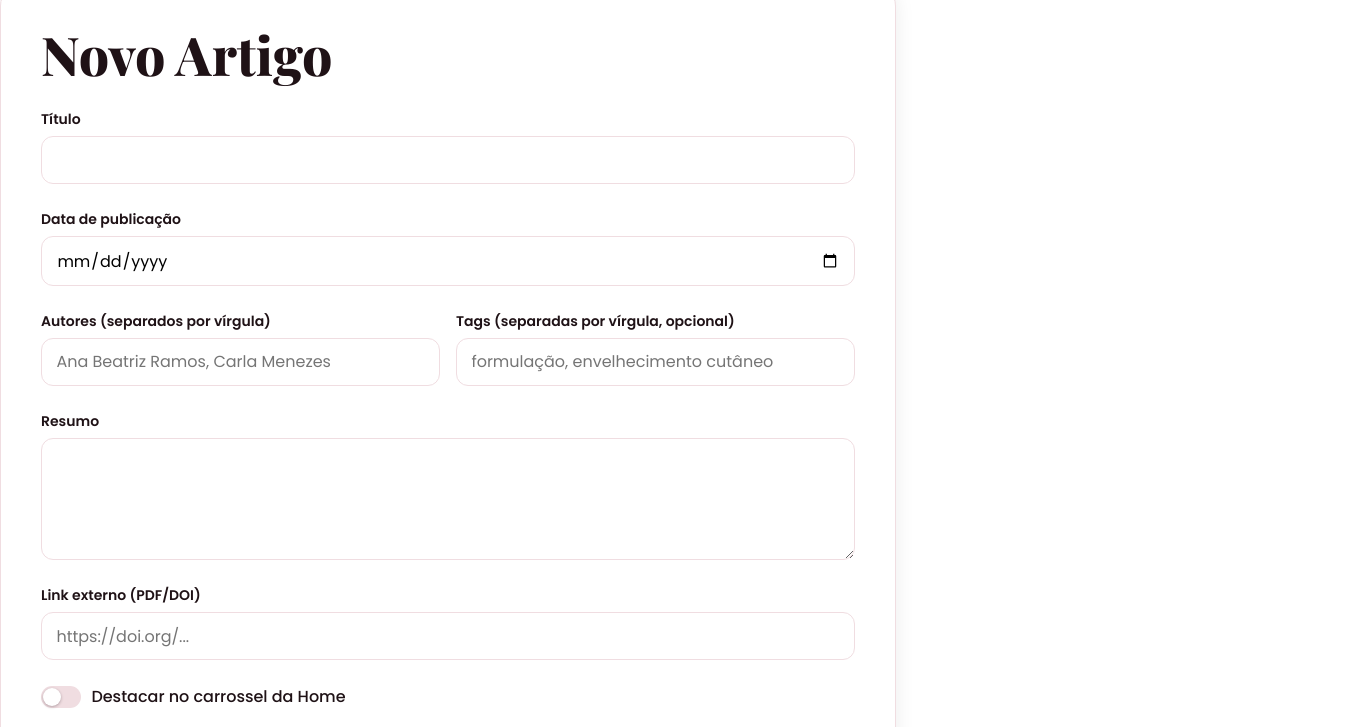
ArticleForm (create) › rejects a malformed external URL
Type "Artigo Teste" into the field labelled "Título" at (448, 160), box [41, 136, 855, 184]
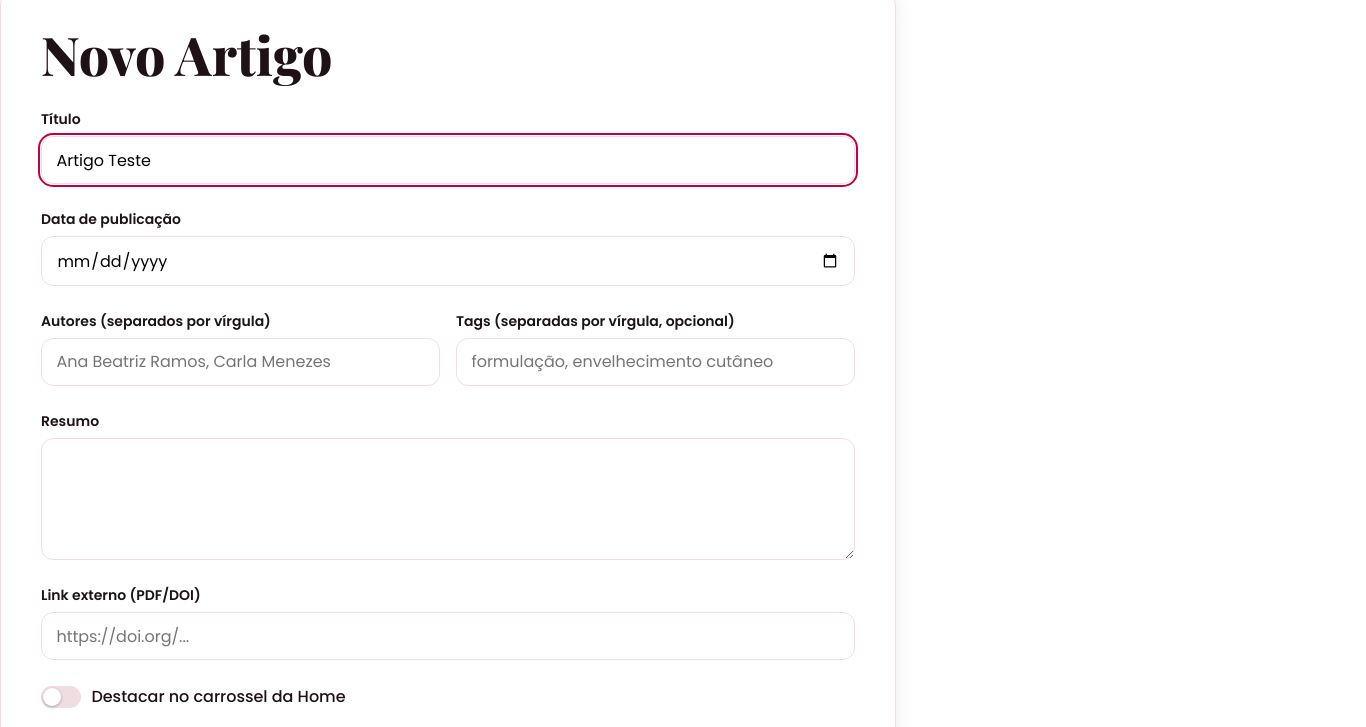
Type "Autora A" into the field labelled "Autores (separados por vírgula)" at (240, 362), box [41, 338, 440, 386]
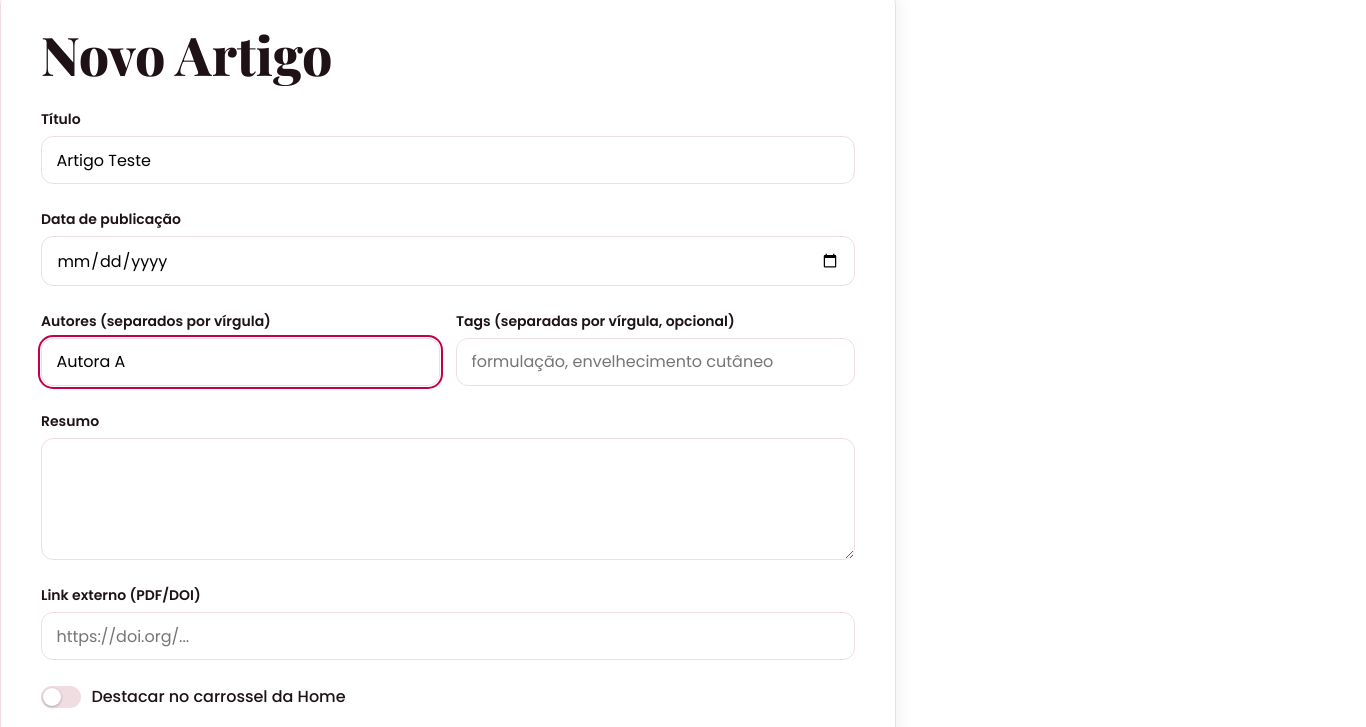
Type "Resumo do artigo" into the text box labelled "Resumo" at (448, 499), box [41, 438, 855, 560]
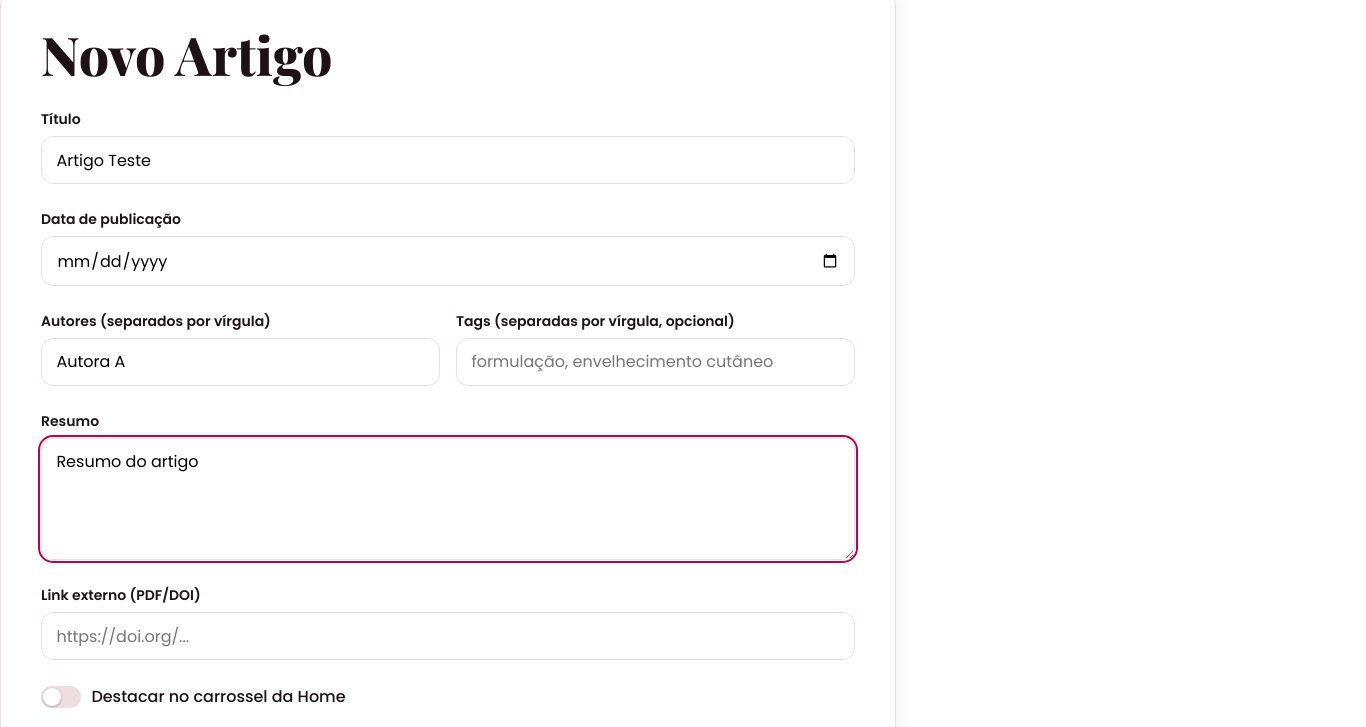
Type "não-é-uma-url" into the field labelled "Link externo (PDF/DOI)" at (448, 636), box [41, 612, 855, 660]
(page scrolled)
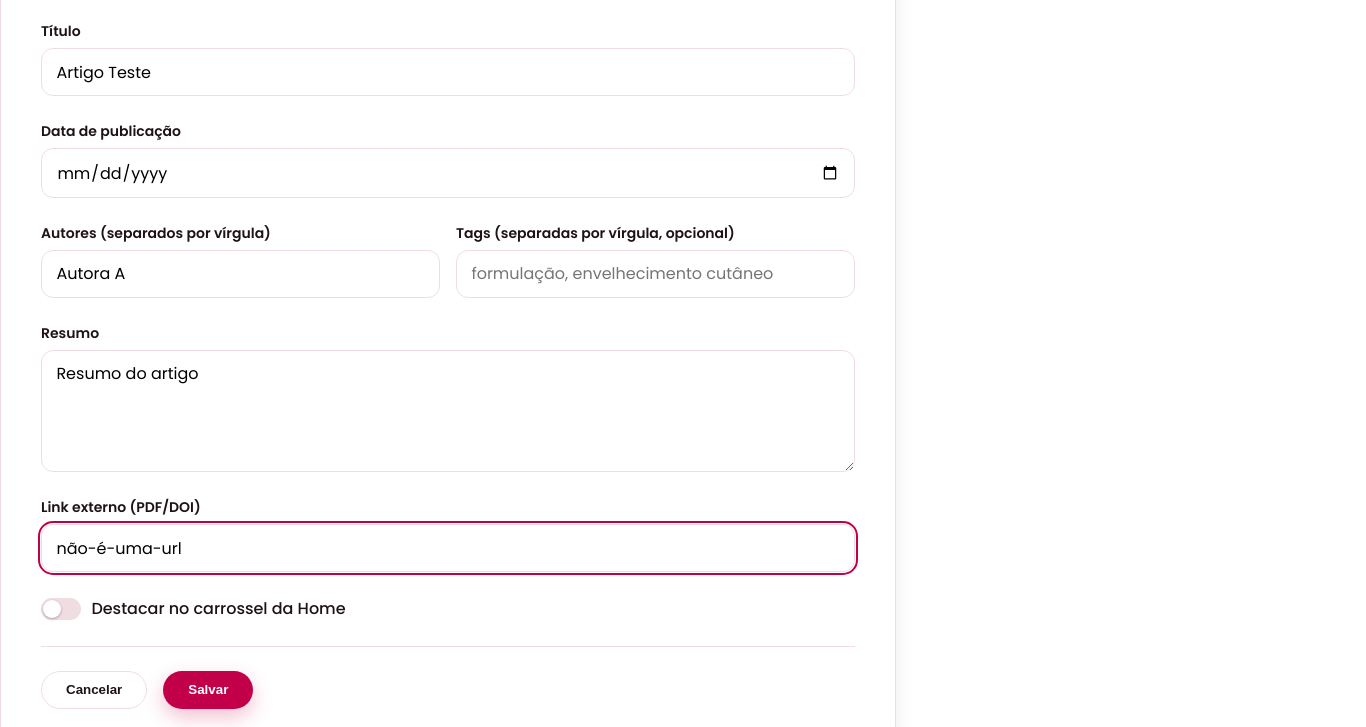
Click the button "Salvar" at (208, 690), box [163, 671, 253, 709]
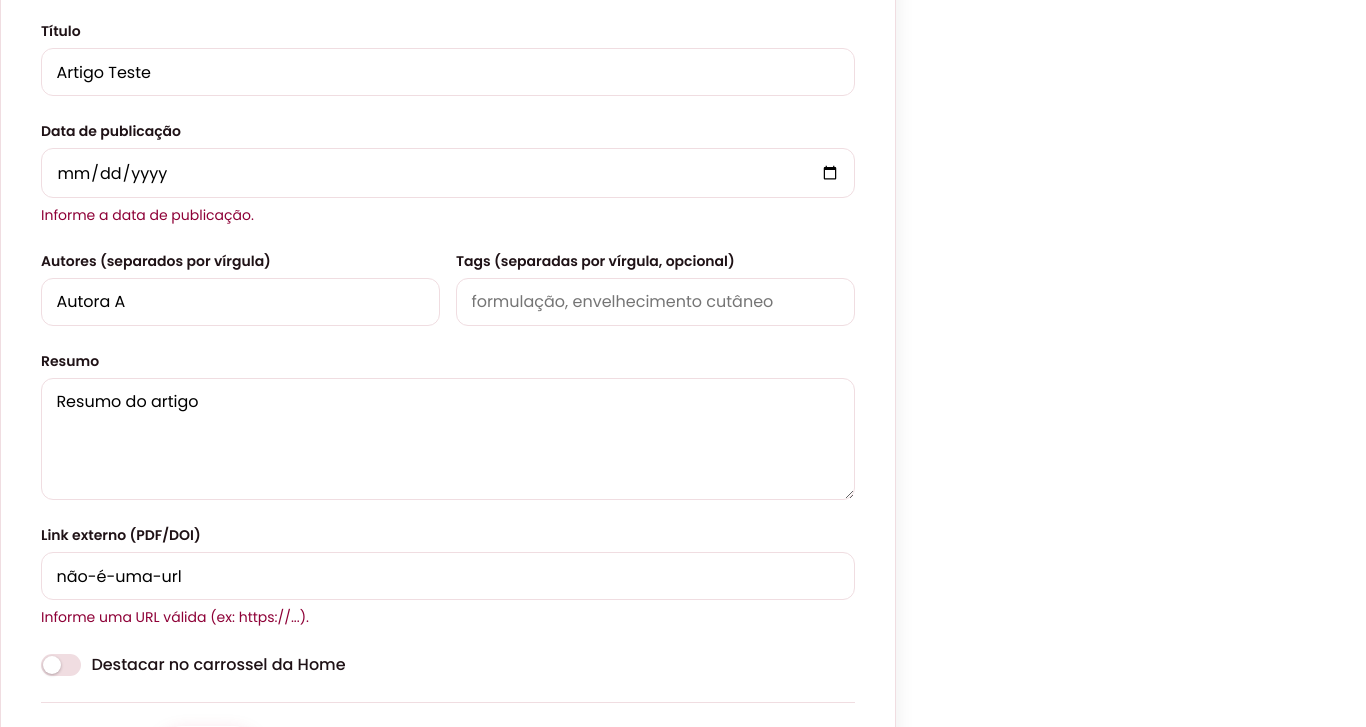
Result: the text "Informe uma URL válida (ex: https://...)." is shown at [41, 607, 309, 627]
